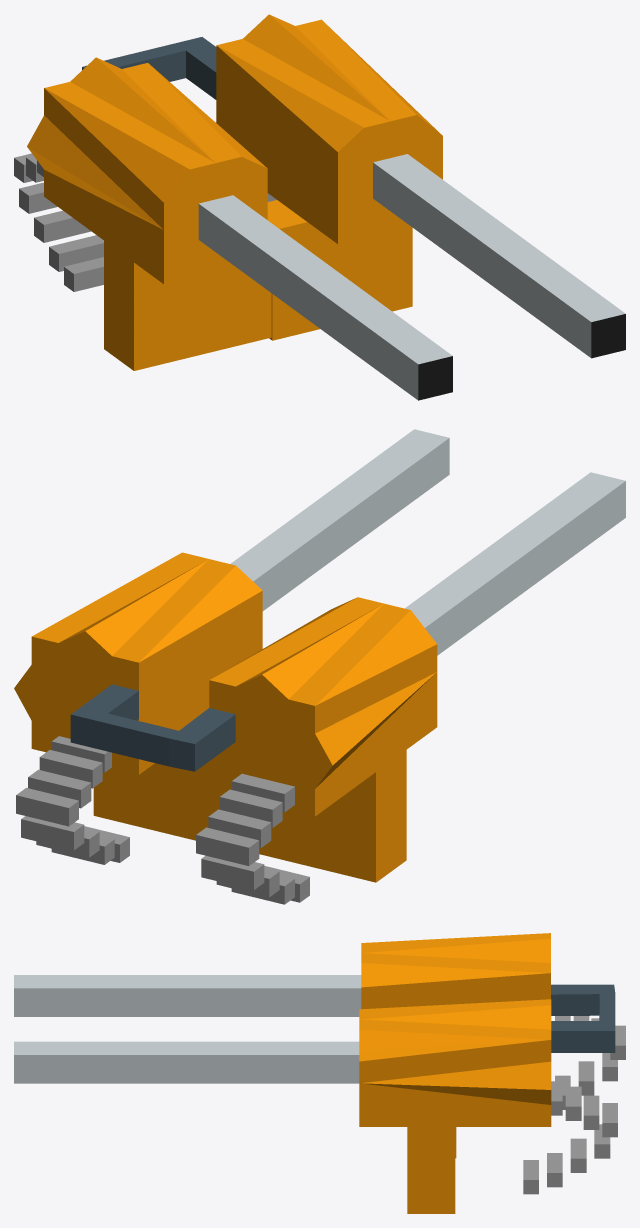
The model's file is gun.gltf.
3 views of the same model, one above another, from view 1: azimuth 30°, elevation 25°; view 2: azimuth 150°, elevation 25°; view 3: azimuth 270°, elevation 25° (orthographic). The views are drawn at different scales.
Parts seen in each view (by area): view 1: gun; view 2: gun; view 3: gun.
Boxes of the visible parts, x1,y1,x2,y2 form: gun: (14, 14, 625, 400); gun: (14, 429, 625, 904); gun: (14, 933, 625, 1213).
Bounding box in the file's own units: 0.7222 × 0.5266 × 1.55.
